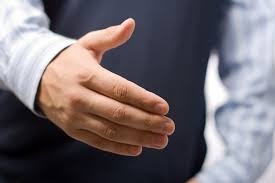hand: (26, 8, 190, 162)
